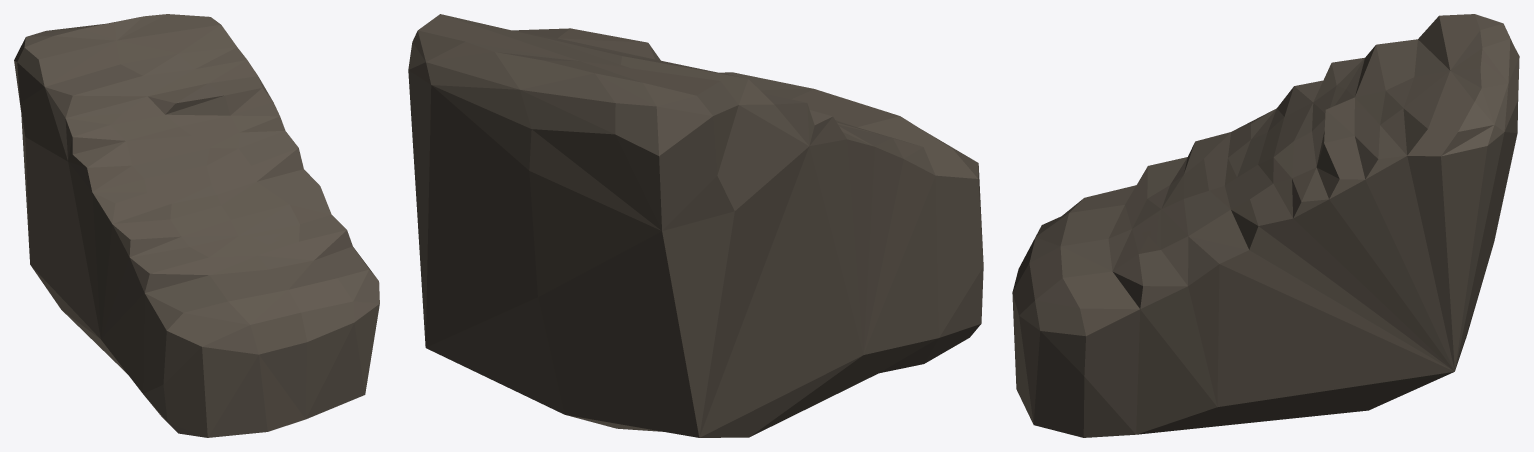
File: bog_stairs.gltf
3 renders of one model, left to right at view 1: azimuth 30°, elevation 25°; view 2: azimuth 150°, elevation 25°; view 3: azimuth 270°, elevation 25°, orthographic. The views are drawn at different scales.
Parts seen in each view (by area): view 1: bog_stairs; view 2: bog_stairs; view 3: bog_stairs.
Boxes of the visible parts, left/top/right/bottom form: bog_stairs: left=14, top=14, right=379, bottom=437; bog_stairs: left=408, top=14, right=983, bottom=437; bog_stairs: left=1012, top=14, right=1519, bottom=437.
Size of the model in its own units: 2.12 by 2.55 by 3.5.
Materials: 1 (1 with a texture image).
